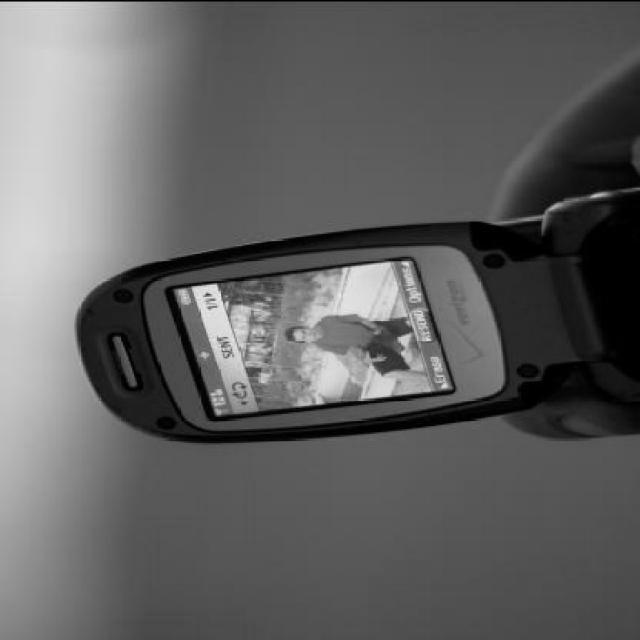fake: (74, 184, 640, 444)
